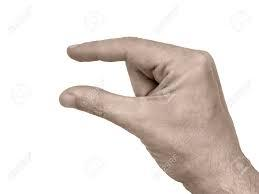Pinched-Fingers: (58, 36, 256, 186)
